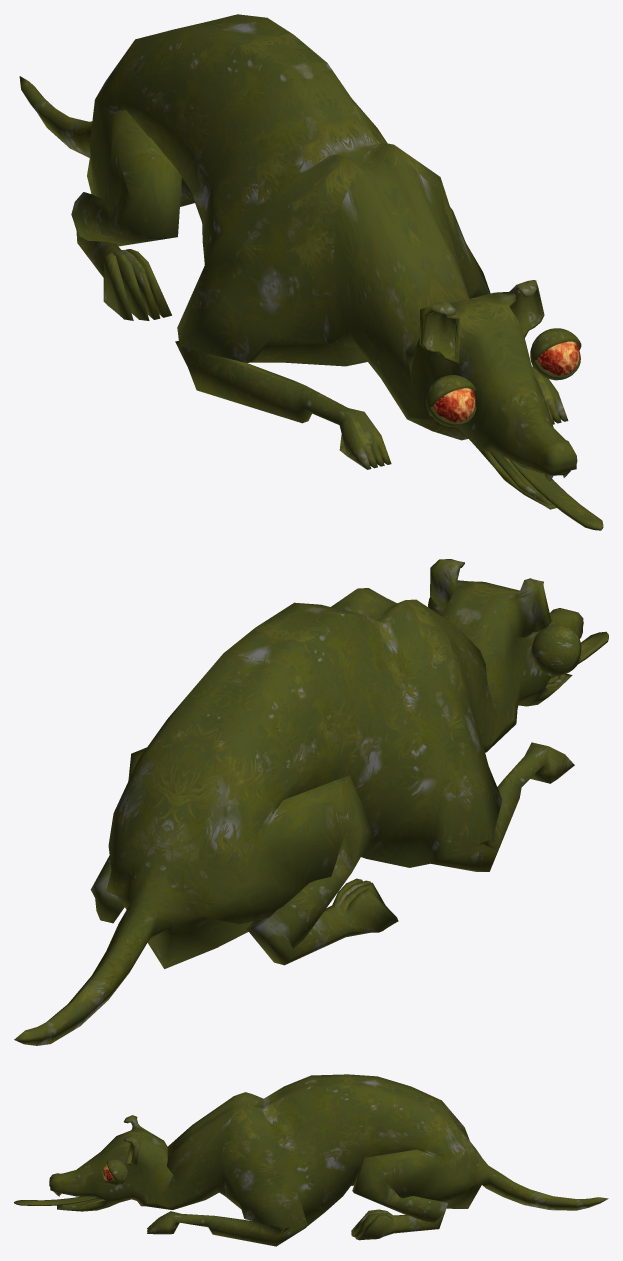
File: Dog_laying2.fbx
The picture shows the model from 3 angles, top to bottom: view 1: azimuth 30°, elevation 25°; view 2: azimuth 150°, elevation 25°; view 3: azimuth 270°, elevation 25°; orthographic projection. The views are drawn at different scales.
Parts seen in each view (by area): view 1: Dog, Tongue.001, Eye.R, Eye.L, EyeLidUpper.L, EyeLidUpper.R; view 2: Dog, EyeLidUpper.R; view 3: Dog, Tongue.001, EyeLidUpper.L.
Part boxes in pixels (x1,y1,x2,y2): Dog: (19, 14, 577, 509); Tongue.001: (508, 459, 603, 530); Eye.R: (432, 388, 475, 422); Eye.L: (537, 341, 579, 375); EyeLidUpper.L: (530, 328, 581, 369); EyeLidUpper.R: (426, 375, 476, 415); Dog: (14, 559, 583, 1045); EyeLidUpper.R: (531, 624, 581, 676); Dog: (49, 1074, 608, 1246); Tongue.001: (14, 1196, 98, 1205); EyeLidUpper.L: (106, 1159, 127, 1184).
Bounding box in the file's own units: 0.1888 × 0.1564 × 0.6405.
